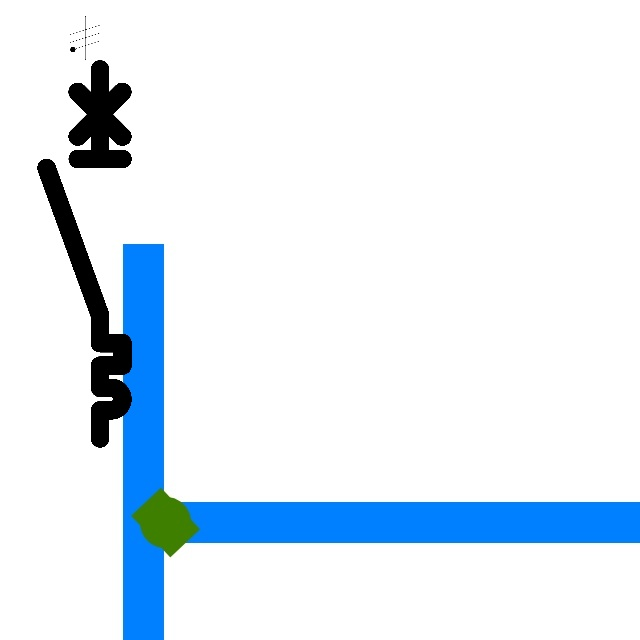interruptor_termomagnetico: (37, 59, 132, 447)
